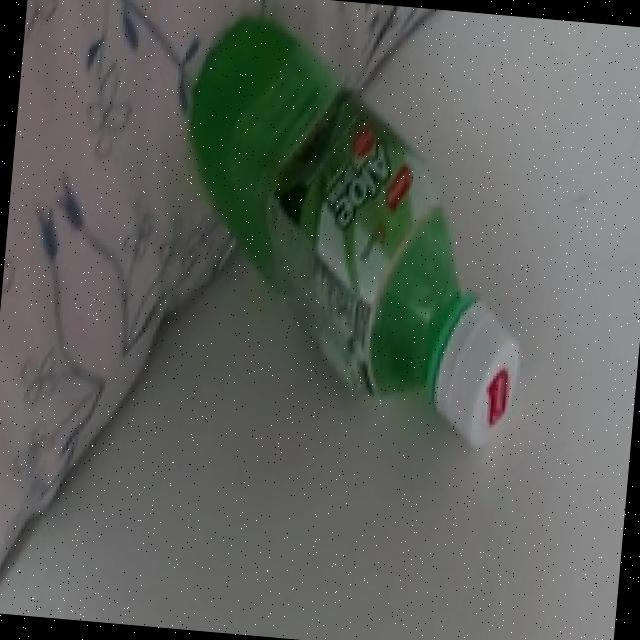bottle: (151, 30, 558, 447)
cap: (422, 294, 528, 448)
label: (256, 98, 439, 420)
